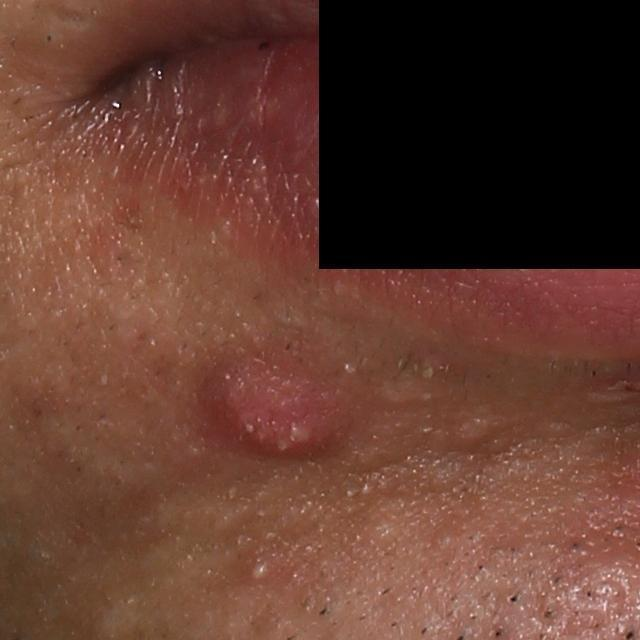hypertrophic_scar: (447, 403, 565, 448), (377, 363, 470, 400)
nodule: (197, 356, 367, 473)
pustule: (237, 545, 286, 589)
